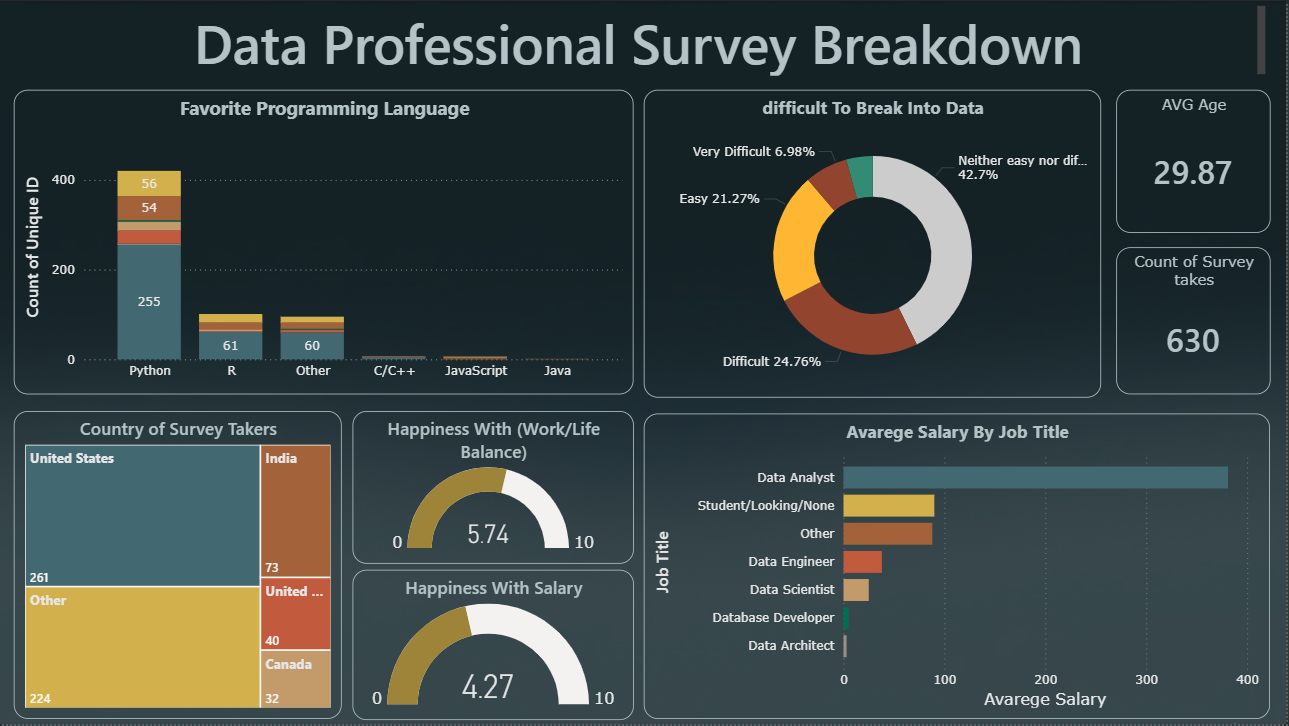

What the dashboard file says about the page in this screenshot:
{"tool":"powerbi","page":{"name":"Page 1","canvas":[1280,720],"ordinal":0},"visuals":[{"type":"cardVisual","title":"AVG Age","fields":{"Data":["Avg(Data Professional Survey.Q10 - Current Age)"]},"box":[1110.4,88.3,153.4,142.3],"z":0},{"type":"cardVisual","title":"Count of Survey takes","fields":{"Data":["Count(Data Professional Survey.Unique ID)"]},"box":[1110.4,245.4,153.4,146],"z":1000},{"type":"gauge","title":"Happiness With Salary","fields":{"MaxValue":["Max(Data Professional Survey.Q6 - How Happy are you in your Current Position with the following? (Salary))"],"Y":["Avg(Data Professional Survey.Q6 - How Happy are you in your Current Position with the following? (Salary))"],"MinValue":["Min(Data Professional Survey.Q6 - How Happy are you in your Current Position with the following? (Salary))"]},"box":[350.9,565.6,279.8,149.7],"z":2000},{"type":"gauge","title":"Happiness With  (Work/Life Balance)","fields":{"Y":["Avg(Data Professional Survey.Q6 - How Happy are you in your Current Position with the following? (Work/Life Balance))"],"MinValue":["Min(Data Professional Survey.Q6 - How Happy are you in your Current Position with the following? (Work/Life Balance))"],"MaxValue":["Max(Data Professional Survey.Q6 - How Happy are you in your Current Position with the following? (Work/Life Balance))1"]},"box":[350.9,408.6,279.8,152.1],"z":3000},{"type":"barChart","title":"Avarege Salary By Job Title","fields":{"Category":["Data Professional Survey.Q1 - Which Title Best Fits your Current Role?.1"],"Y":["CountNonNull(Data Professional Survey.Avarege Salary)"],"Series":["Data Professional Survey.Q1 - Which Title Best Fits your Current Role?.1"]},"box":[640.5,411,623.3,304.3],"z":4000},{"type":"columnChart","title":" Favorite Programming Language","fields":{"Category":["Data Professional Survey.Q5 - Favorite Programming Language.1.1"],"Y":["CountNonNull(Data Professional Survey.Unique ID)"],"Series":["Data Professional Survey.Q1 - Which Title Best Fits your Current Role?.1"]},"box":[13.5,88.3,617.2,303.1],"z":5000},{"type":"treemap","title":"Country of Survey Takers","fields":{"Group":["Data Professional Survey.Q11 - Which Country do you live in?.1"],"Values":["CountNonNull(Data Professional Survey.Q11 - Which Country do you live in?.1)"]},"box":[13.5,408.6,326.4,306.8],"z":6000},{"type":"donutChart","title":" difficult To Break Into Data","fields":{"Category":["Data Professional Survey.Q7 - How difficult was it for you to break into Data?"],"Y":["CountNonNull(Data Professional Survey.Q7 - How difficult was it for you to break into Data?)"]},"box":[640.5,88.3,455.2,306.8],"z":7000},{"type":"textbox","box":[13.5,0,1250.3,79.8],"z":8000}]}

Visuals, with their boxes in screenshot pixels (x1, y1, x2, y2), scaled from the page's 1280x720 canvas onto the 1289x726 screenshot:
"AVG Age" cardVisual: left=1118, top=89, right=1273, bottom=233
"Count of Survey takes" cardVisual: left=1118, top=247, right=1273, bottom=395
"Happiness With Salary" gauge: left=353, top=570, right=635, bottom=721
"Happiness With  (Work/Life Balance)" gauge: left=353, top=412, right=635, bottom=565
"Avarege Salary By Job Title" barChart: left=645, top=414, right=1273, bottom=721
" Favorite Programming Language" columnChart: left=14, top=89, right=635, bottom=395
"Country of Survey Takers" treemap: left=14, top=412, right=342, bottom=721
" difficult To Break Into Data" donutChart: left=645, top=89, right=1103, bottom=398
textbox: left=14, top=0, right=1273, bottom=80
